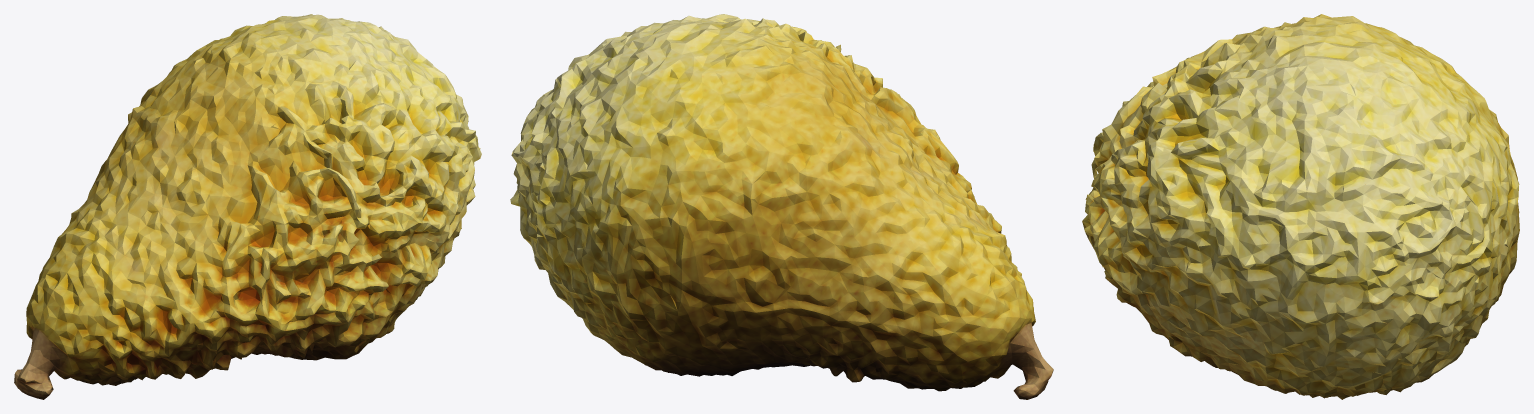
File: natural-luffa-sponge-3d.jpeg.glb
3 views of the same model, side by side, from view 1: azimuth 30°, elevation 25°; view 2: azimuth 150°, elevation 25°; view 3: azimuth 270°, elevation 25° (orthographic). The views are drawn at different scales.
Parts seen in each view (by area): view 1: world; view 2: world; view 3: world.
Boxes of the visible parts, <box> form: world: <box>14,14,481,399</box>; world: <box>510,14,1053,399</box>; world: <box>1082,14,1519,399</box>.
Bounding box in the file's own units: 1 × 0.6301 × 0.7197.
Materials: 1 (1 with a texture image).
